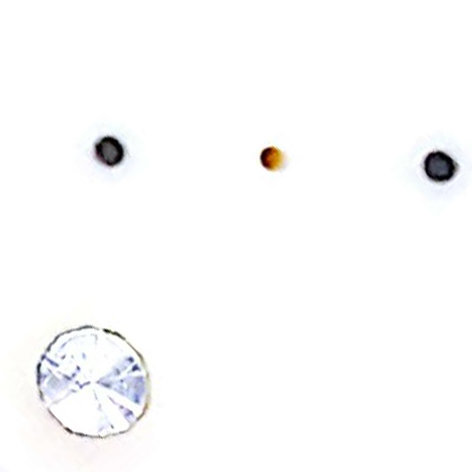abnormal: (7, 304, 164, 468)
cancer: (70, 109, 163, 188), (395, 119, 472, 202)
normal: (238, 129, 306, 191)
